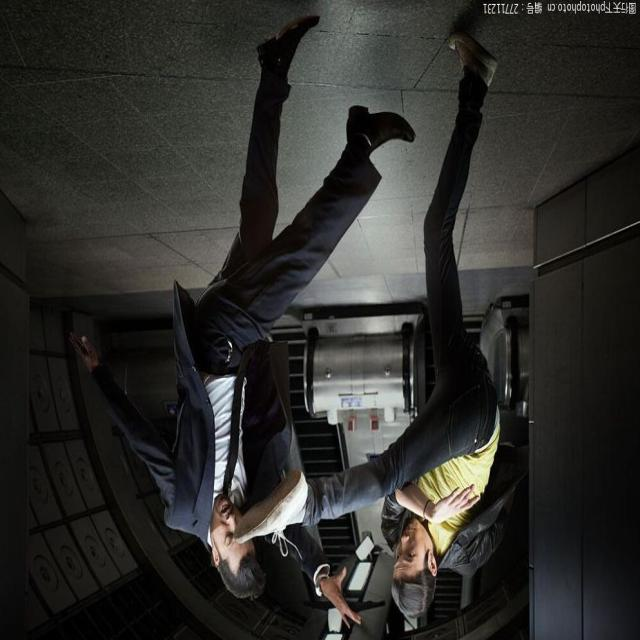fight: (152, 362, 520, 622)
